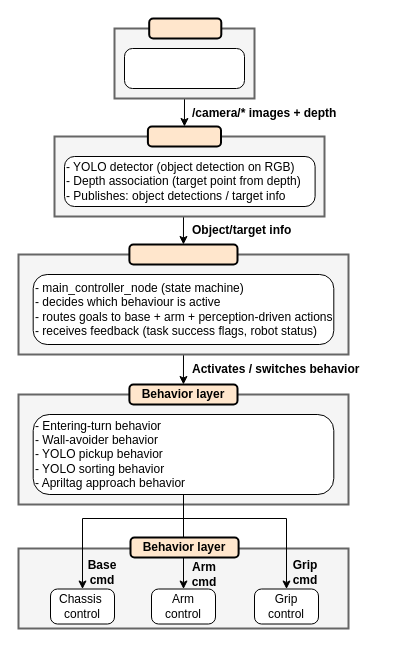
The diagram is 407 pixels wide and 646 high, and some of its shapes have lost their labels. Here are the shapes that lost their labels. From the top down, the box of each, then its label:
(148, 17, 222, 39): Sensors
(124, 48, 244, 88): - Realsense RGB-D - RGB Camera
(146, 125, 222, 147): Perception
(128, 243, 238, 265): Main controller
